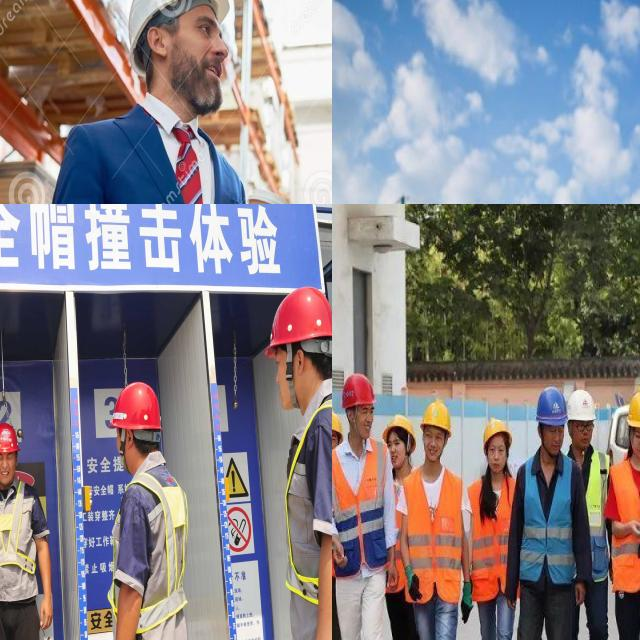No_Ear-Protection: (143, 21, 170, 59)
No_Glasses: (147, 5, 234, 52)
face_nomask: (152, 0, 234, 115), (265, 353, 307, 412), (0, 444, 22, 490)
glasses: (574, 416, 596, 434)
hand_glove: (458, 580, 476, 624), (406, 563, 422, 605)
hand_noglove: (38, 582, 56, 632), (332, 532, 350, 574), (384, 551, 402, 593), (626, 514, 640, 542), (574, 581, 586, 611)
head_helmet: (127, 0, 231, 65), (265, 288, 332, 352), (110, 381, 162, 429), (537, 388, 568, 427), (566, 387, 596, 426), (342, 373, 376, 406), (420, 400, 452, 434), (382, 416, 415, 446), (482, 421, 513, 449), (625, 388, 640, 428), (0, 423, 20, 451), (332, 414, 343, 438)
person: (51, 0, 271, 204), (101, 381, 190, 640), (268, 287, 332, 640), (332, 370, 396, 640), (520, 386, 577, 640), (407, 397, 464, 640), (567, 380, 612, 640), (0, 416, 50, 640), (472, 409, 517, 640), (380, 415, 425, 640), (610, 386, 640, 640), (332, 409, 340, 466)
vest: (115, 461, 190, 640), (288, 408, 332, 640), (404, 470, 470, 596), (524, 462, 581, 594), (332, 448, 396, 565), (470, 479, 521, 590), (0, 479, 46, 595), (574, 449, 612, 570), (614, 463, 640, 586), (389, 468, 408, 584)
